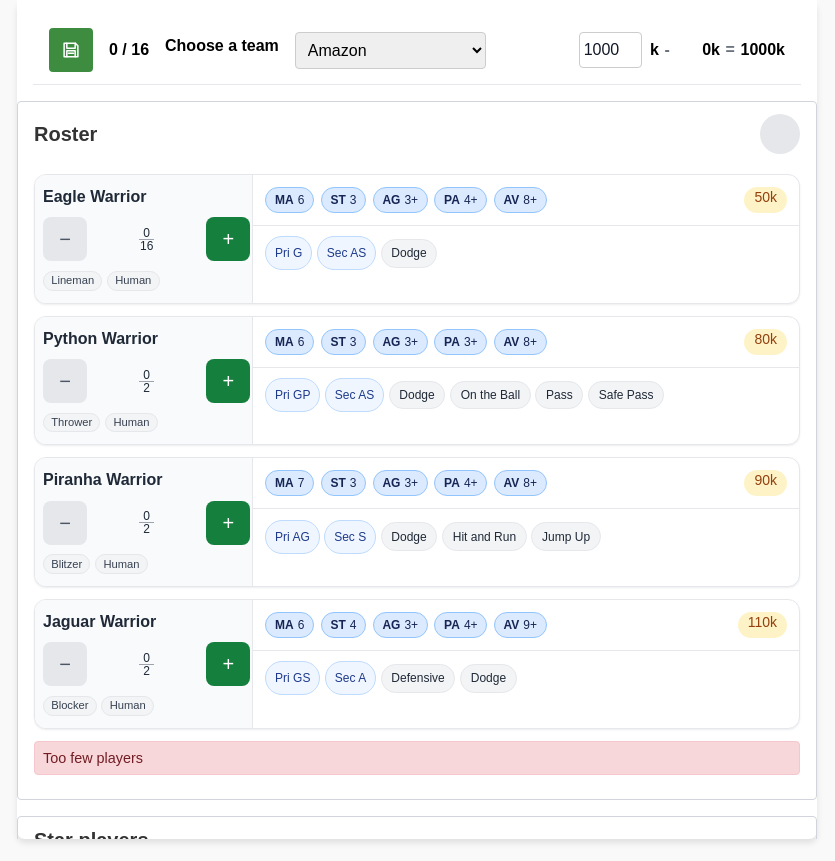
it: roster page save behavior › shows starting, spent, and remaining treasury in an equation
The image size is (835, 861).
Replace the text in the number field named "Starting treasury in thousands" with "1234" at coordinates (610, 50), box [579,32,642,68]
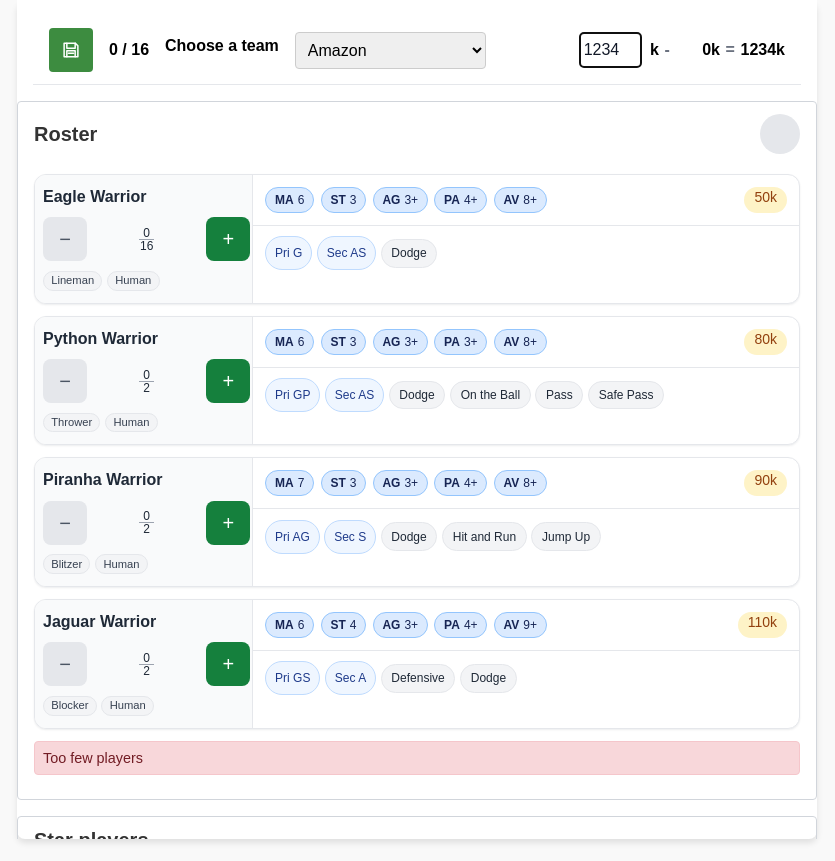
Expected: the element named "Starting treasury in thousands" reads "k - 0k = 1234k", [579,32,785,68]
